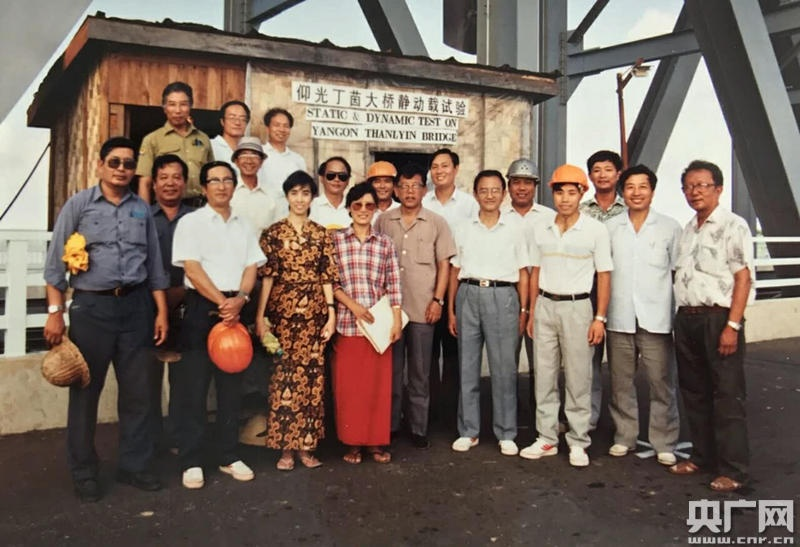none: (679, 159, 723, 216), (98, 134, 138, 187), (200, 159, 237, 206), (620, 163, 656, 210), (152, 155, 186, 203), (159, 79, 193, 126), (587, 148, 623, 192), (473, 166, 505, 213), (345, 182, 376, 227), (263, 105, 296, 145), (233, 135, 264, 176), (395, 166, 425, 208), (284, 171, 312, 216), (319, 155, 350, 195), (219, 97, 249, 138), (430, 148, 458, 188)
white: (507, 158, 540, 207)
yellow: (546, 162, 587, 215), (368, 159, 395, 199)
